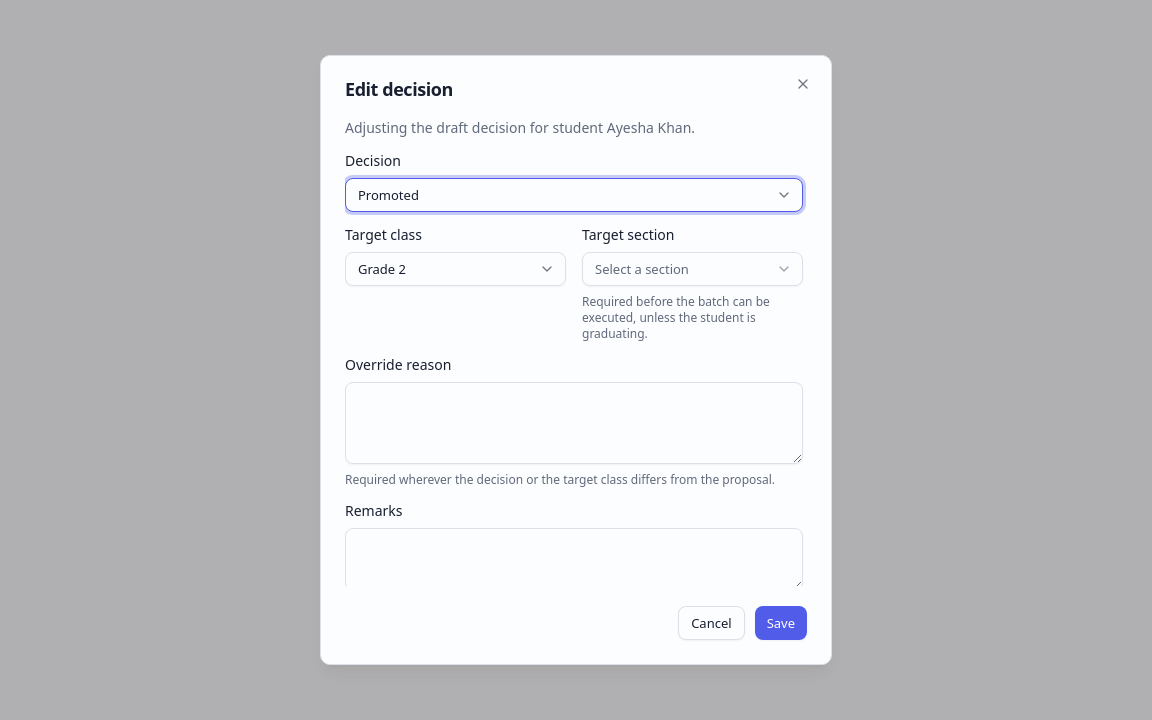
Test: PromotionDecisionDialog › the rules it mirrors › offers None only while a section is set
Check: the dialog "Edit decision" is shown, box [320,55,832,665]
What coordinates should you click on to do the following:
click the dropdown named "Target section"
I would click on:
 (692, 269)
Its box is [582,252,803,286].
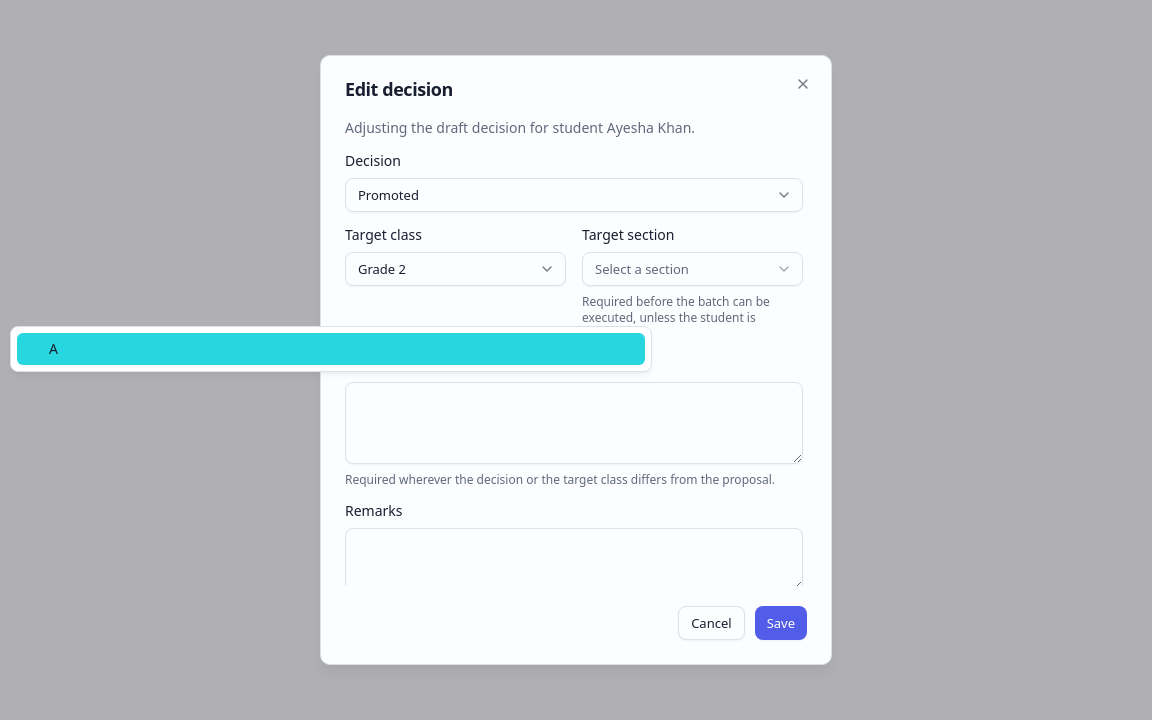
Check: the option "A" is shown, box [17,333,645,365]
